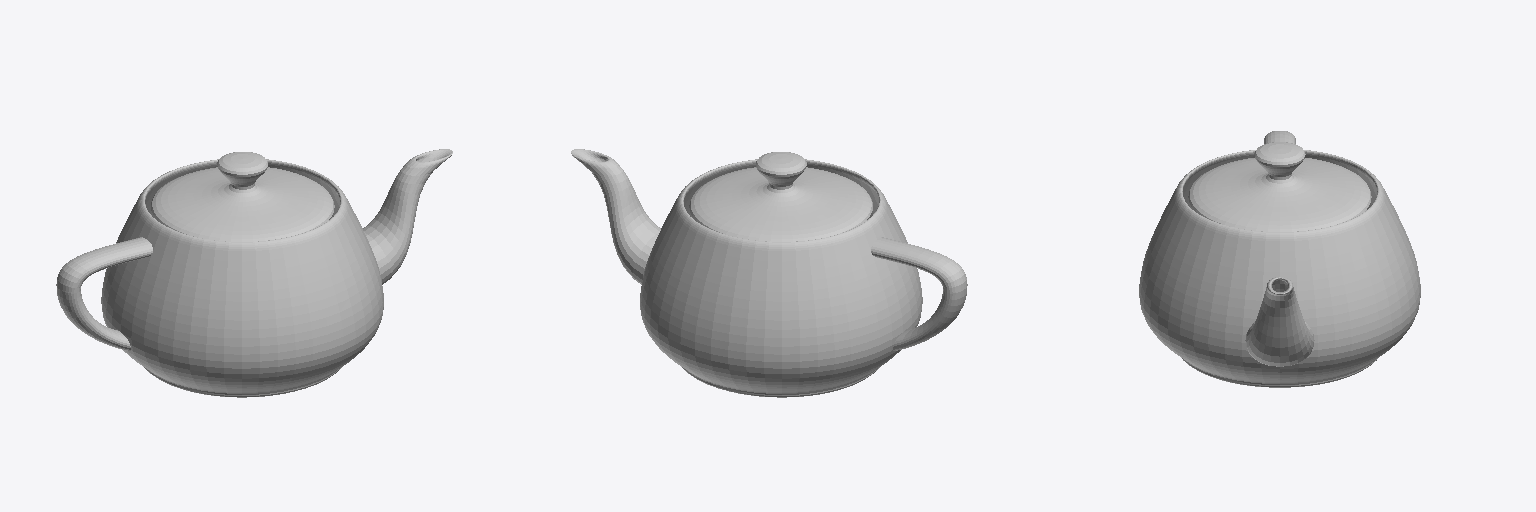
Rendered from ChaiKaBatila.obj.
3 renders of one model, left to right at view 1: azimuth 30°, elevation 25°; view 2: azimuth 150°, elevation 25°; view 3: azimuth 270°, elevation 25°, orthographic.
Visible parts, largest first — view 1: Teapot_Node; view 2: Teapot_Node; view 3: Teapot_Node.
Boxes of the visible parts, <box> form: Teapot_Node: <box>56,149,452,397</box>; Teapot_Node: <box>571,149,967,397</box>; Teapot_Node: <box>1139,131,1420,387</box>.
Size of the model in its own units: 2.07 by 1.01 by 1.29.